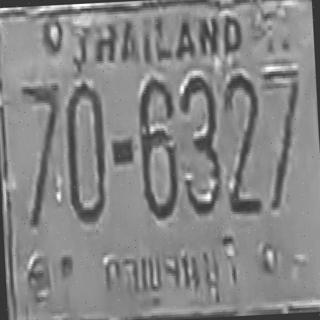N00: (64, 80, 108, 222)
N02: (221, 72, 262, 214)
N03: (178, 74, 221, 214)
N06: (136, 75, 178, 217)
N07: (21, 80, 65, 226), (262, 66, 305, 208)
P19: (96, 236, 246, 312)
